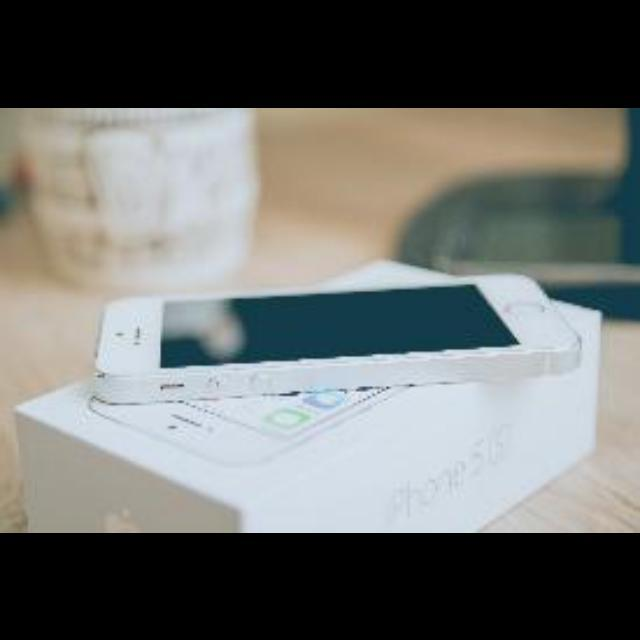Phone: (93, 275, 581, 405)
